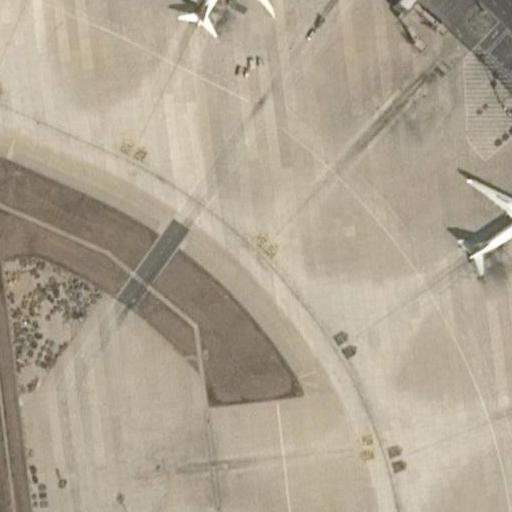Aircraft: (445, 154, 512, 289), (158, 0, 283, 39)
